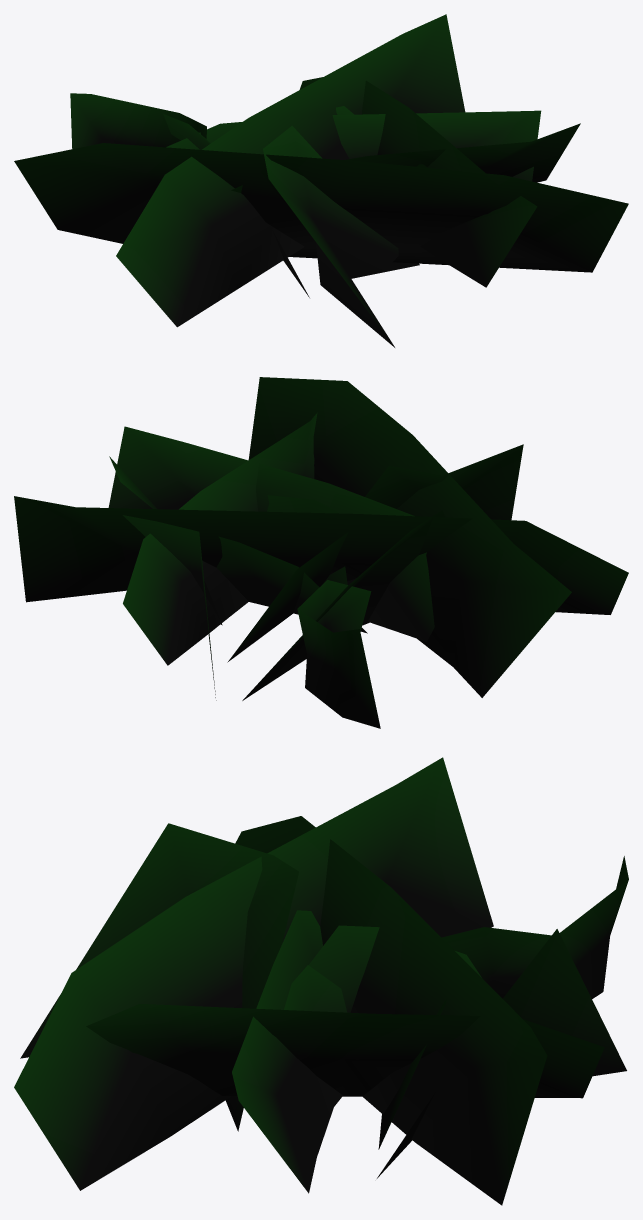
File: DryPlantsRHEP_B 01.fbx
3 renders of one model, top to bottom at view 1: azimuth 30°, elevation 25°; view 2: azimuth 150°, elevation 25°; view 3: azimuth 270°, elevation 25°, orthographic. The views are drawn at different scales.
Visible parts, largest first — view 1: DPRHEPB01_LOD0; view 2: DPRHEPB01_LOD0; view 3: DPRHEPB01_LOD0.
Part boxes in pixels (x1,y1,x2,y2): DPRHEPB01_LOD0: [14, 14, 628, 347]; DPRHEPB01_LOD0: [14, 377, 628, 728]; DPRHEPB01_LOD0: [14, 757, 628, 1205].
Size of what is drawn, in the model's own units: 1.95 by 0.5677 by 1.62.
